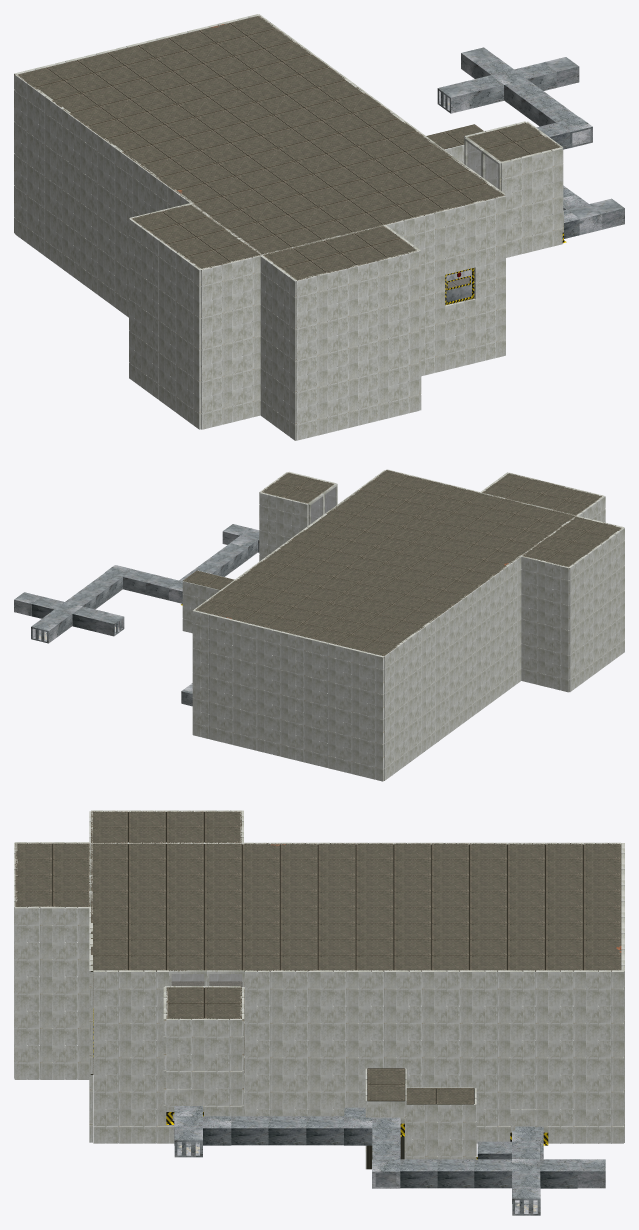
The model's file is Level4.fbx.
The picture shows the model from 3 angles, top to bottom: view 1: azimuth 30°, elevation 25°; view 2: azimuth 150°, elevation 25°; view 3: azimuth 270°, elevation 25°; orthographic projection. The views are drawn at different scales.
Parts seen in each view (by area): view 1: Roof, Wall_1.001, Wall_1.006, Wall_1.003, Wall_1.007, Wall_1.004, Wall_1.008, Wall_1.023, Wall_2.001, Wall_1, Door, Vent_1.015 (+12 smaller); view 2: Roof, Wall_1, Wall_1.001, Wall_1.007, Wall_1.005, Wall_1.022, Wall_1.017, Wall_2.001, Vent_1.015, Floor, Vent_3.002, Vent_1.031 (+6 smaller); view 3: Roof, Wall_1.002, Wall_1.009, Wall_1.021, Wall_1.013, Floor, Wall_2.002, Vent_1.011, Vent_1.022, Vent_1.014, Vent_1.035, Vent_1.001 (+17 smaller).
Boxes of the visible parts, x1,y1,x2,y2 form: Roof: (16,15,561,280); Wall_1.001: (15,74,193,317); Wall_1.006: (296,250,418,440); Wall_1.003: (383,195,505,376); Wall_1.007: (129,218,201,429); Wall_1.004: (200,255,262,429); Wall_1.008: (260,255,296,440); Wall_1.023: (500,147,562,257); Wall_2.001: (464,137,501,190); Wall_1: (14,14,258,233); Door: (445,268,474,305); Vent_1.015: (461,75,503,107); Roof: (195,470,621,655); Wall_1: (193,610,384,781); Wall_1.001: (383,555,521,780); Wall_1.007: (569,527,624,691); Wall_1.005: (521,556,569,692); Wall_1.022: (260,492,308,560); Wall_1.017: (182,581,219,633); Wall_2.001: (308,483,337,524); Vent_1.015: (72,606,105,631); Floor: (183,570,384,780); Vent_3.002: (96,612,124,636); Vent_1.031: (145,575,178,600); Roof: (15,811,621,1019); Wall_1.002: (93,970,623,1143); Wall_1.009: (14,906,89,1079); Wall_1.021: (166,1018,242,1120); Wall_1.013: (406,1104,475,1159); Floor: (90,972,611,1143); Wall_2.002: (169,970,244,1074); Vent_1.011: (268,1116,306,1145); Vent_1.022: (540,1159,577,1188); Vent_1.014: (306,1116,343,1145); Vent_1.035: (400,1159,437,1188); Vent_1.001: (231,1116,268,1145).
Size of the model in its own units: 14164 by 3765 by 12091.
